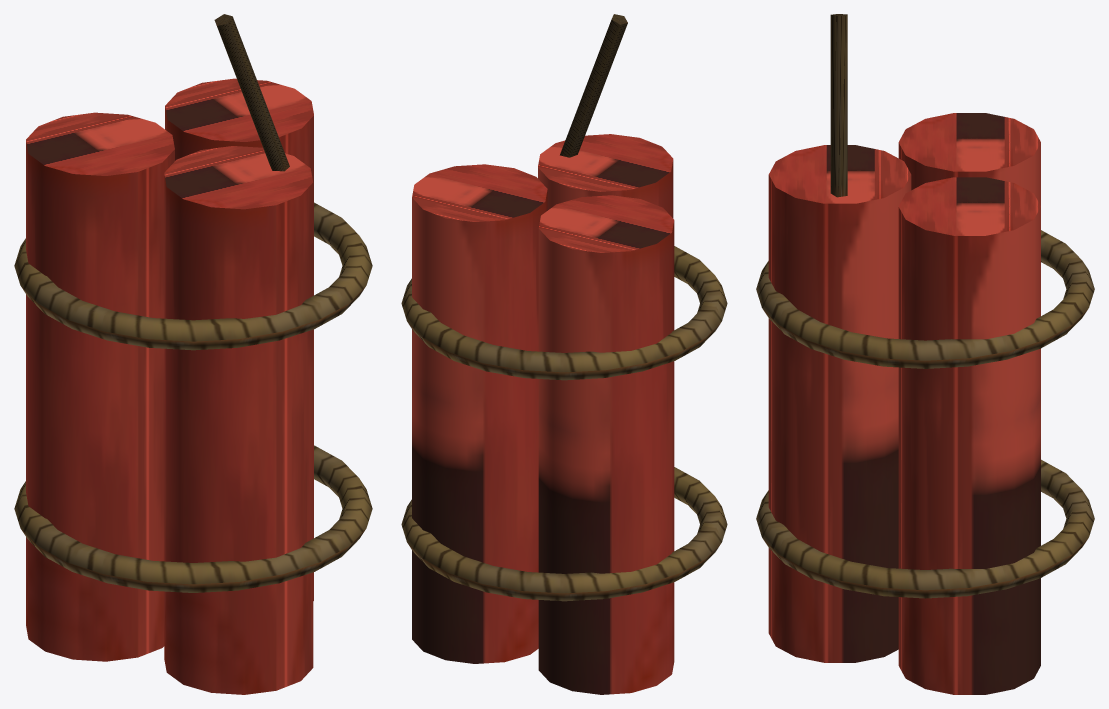
Rendered from dynamite.glb.
3 renders of one model, left to right at view 1: azimuth 30°, elevation 25°; view 2: azimuth 150°, elevation 25°; view 3: azimuth 270°, elevation 25°, orthographic. The views are drawn at different scales.
Visible parts, largest first — view 1: dynamite_kit; view 2: dynamite_kit; view 3: dynamite_kit.
Boxes of the visible parts, bbox=[...] form: dynamite_kit: bbox=[14, 14, 372, 694]; dynamite_kit: bbox=[401, 14, 727, 694]; dynamite_kit: bbox=[756, 14, 1094, 694].
Bounding box in the file's own units: 0.1998 × 0.3999 × 0.1998.
1 material, 1 textured.
